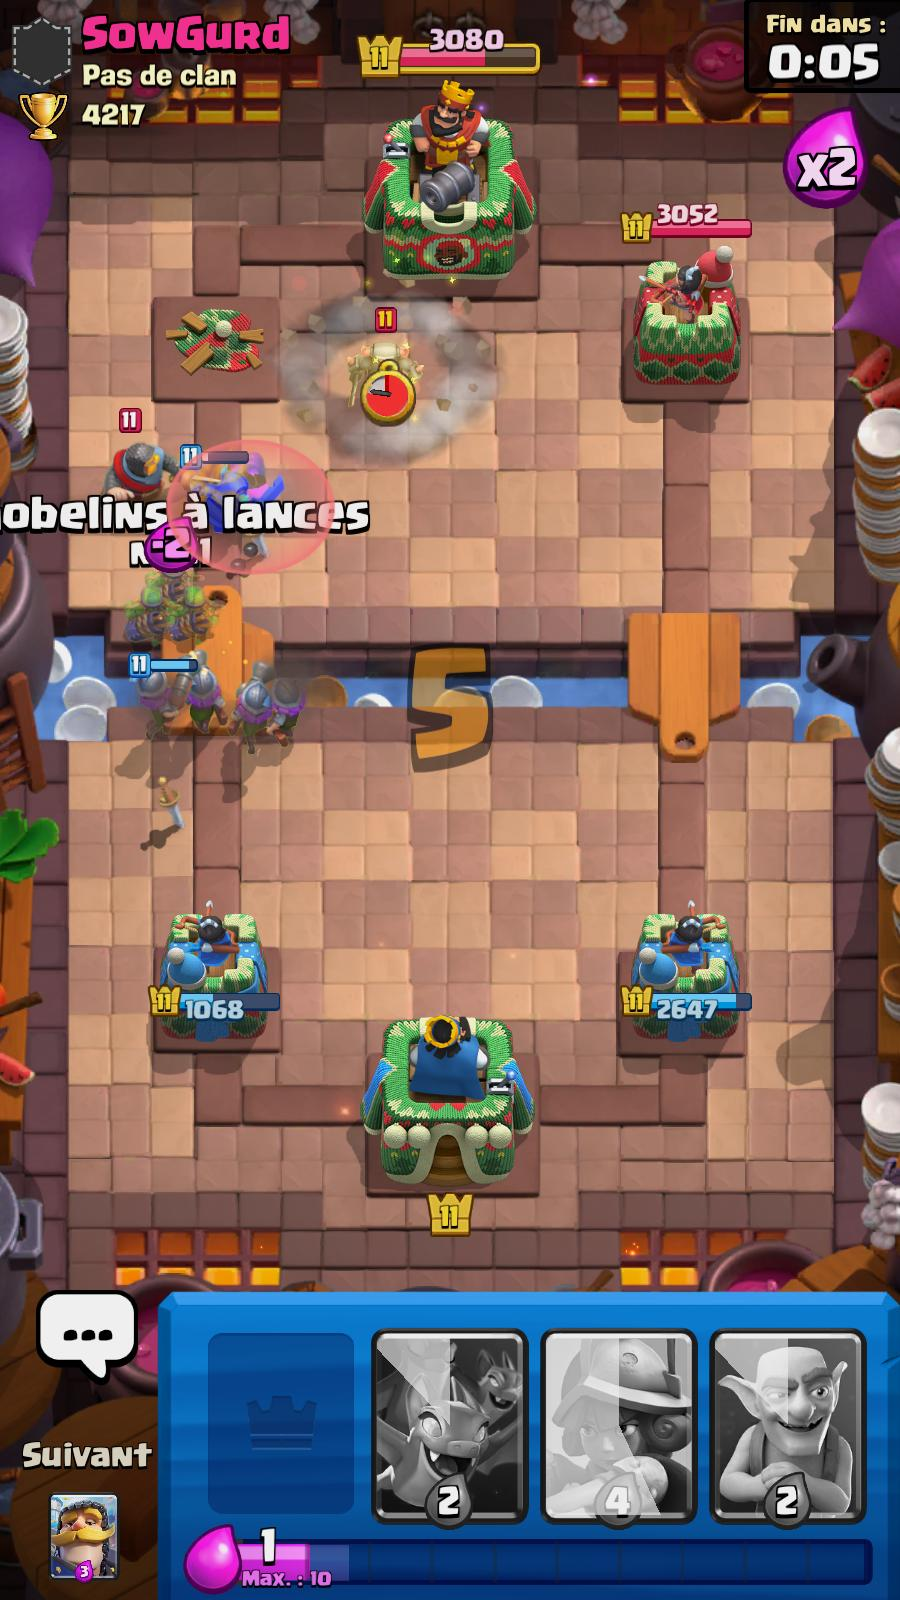chevalier: (100, 403, 178, 504)
gobelin_lances: (115, 585, 175, 647), (167, 589, 223, 648), (148, 564, 205, 598)
mini_PEKKA: (345, 303, 424, 395), (184, 445, 285, 509)
mousquetaire: (229, 666, 278, 760), (130, 656, 188, 735), (175, 651, 222, 733), (264, 671, 310, 743)
